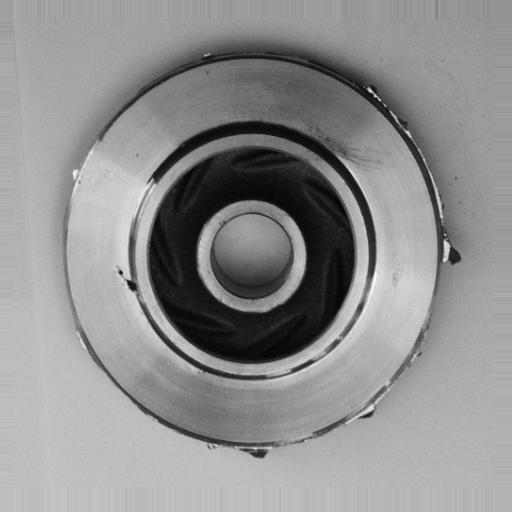casting_with_burr: (59, 44, 463, 467)
crack: (105, 261, 159, 307)
scratch: (122, 166, 167, 236)
stain: (305, 121, 395, 179)
